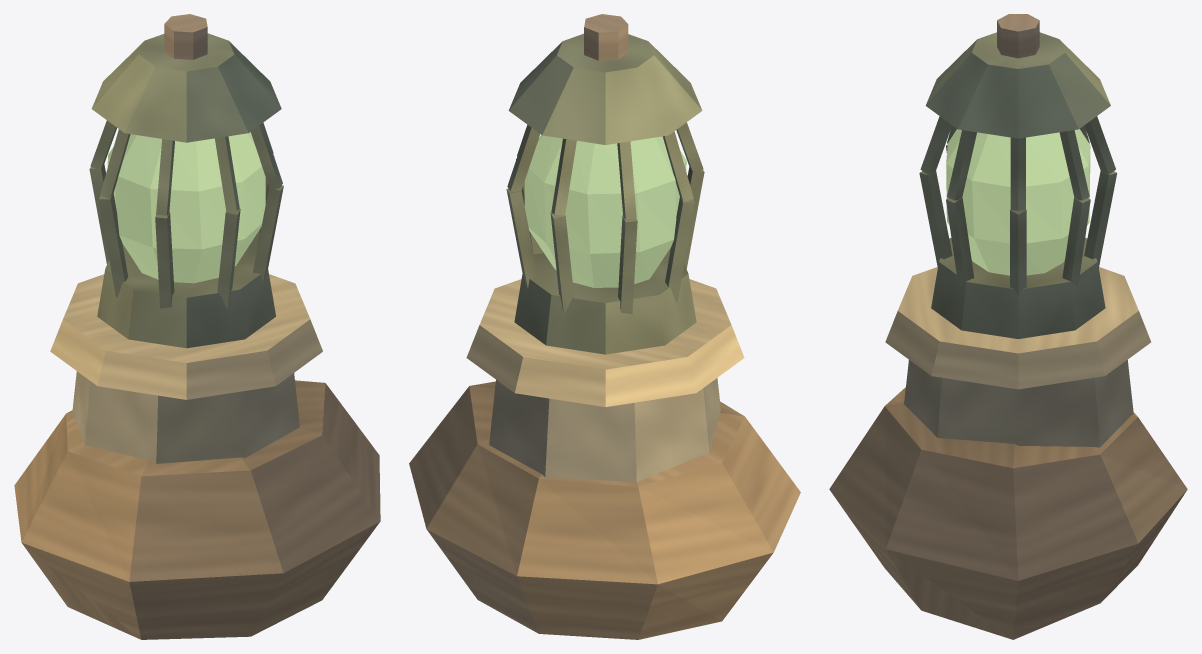
The model's file is furniture_watch_lamp.glb.
3 views of the same model, side by side, from view 1: azimuth 30°, elevation 25°; view 2: azimuth 150°, elevation 25°; view 3: azimuth 270°, elevation 25° (orthographic). The views are drawn at different scales.
Parts seen in each view (by area): view 1: Wegwachtlampe · Möbel; view 2: Wegwachtlampe · Möbel; view 3: Wegwachtlampe · Möbel.
Part boxes in pixels (x1,y1,x2,y2): Wegwachtlampe · Möbel: (14,14,380,639); Wegwachtlampe · Möbel: (409,14,800,639); Wegwachtlampe · Möbel: (829,14,1187,639).
Bounding box in the file's own units: 0.9545 × 1.51 × 0.849.
Materials: 3 (2 with a texture image).
